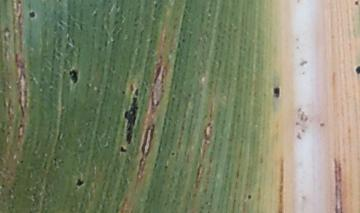tarspot: (123, 96, 139, 145), (68, 68, 79, 85), (74, 176, 86, 188), (272, 85, 281, 100), (298, 58, 309, 68), (132, 86, 141, 97), (317, 120, 328, 129), (28, 10, 37, 20), (295, 130, 303, 141), (118, 145, 127, 154), (353, 64, 360, 75), (245, 192, 254, 200), (294, 119, 301, 129), (152, 1, 159, 10), (169, 150, 177, 157), (18, 158, 25, 166), (120, 88, 127, 95), (180, 36, 187, 43), (170, 95, 176, 103), (353, 1, 360, 7), (16, 1, 23, 5)
